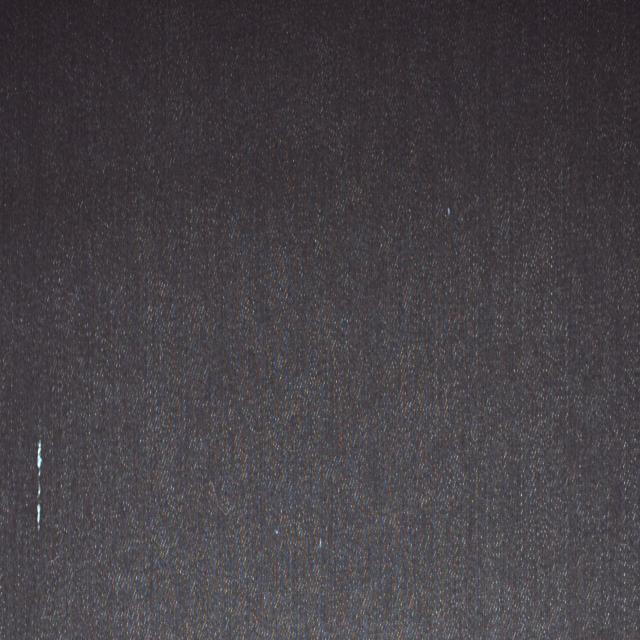Knot: (35, 440, 43, 532)
